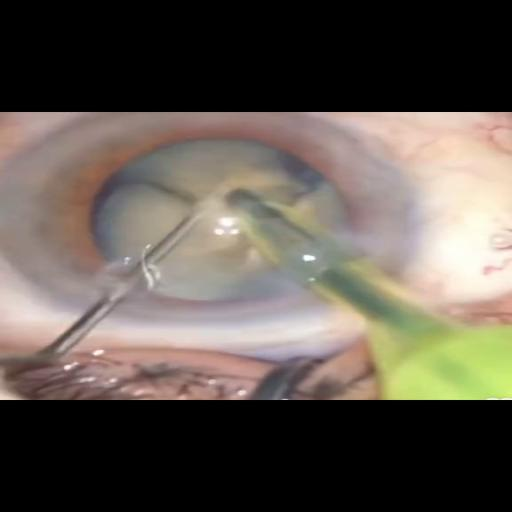catarata: (86, 141, 331, 292)
cornea: (0, 108, 419, 327)
pupil: (51, 115, 372, 296)
